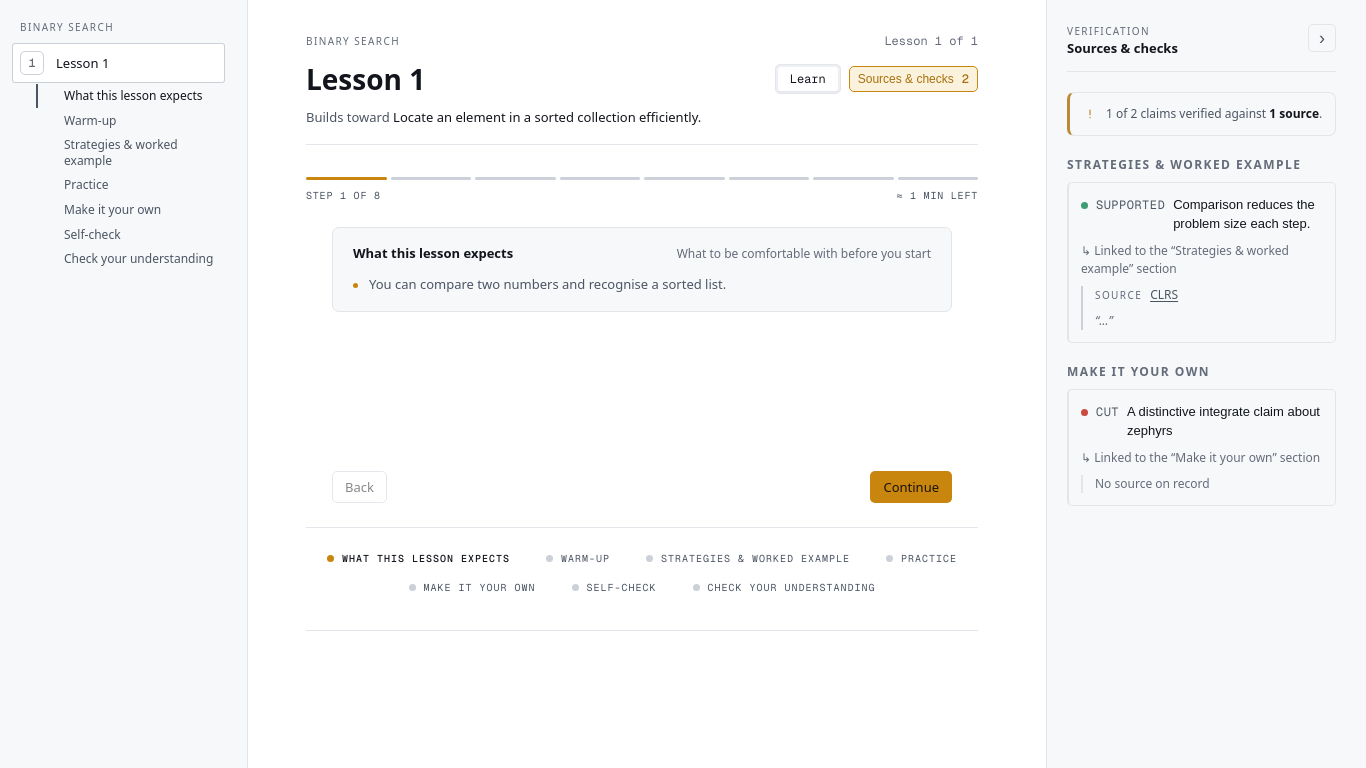
Test case: CourseReader — claim → lesson backlink › locates a claim in the integrate phase to its “Make it your own” step
Click the button "CUT A distinctive integrate claim about zephyrs": (1202, 421) [1081,402,1323,440]
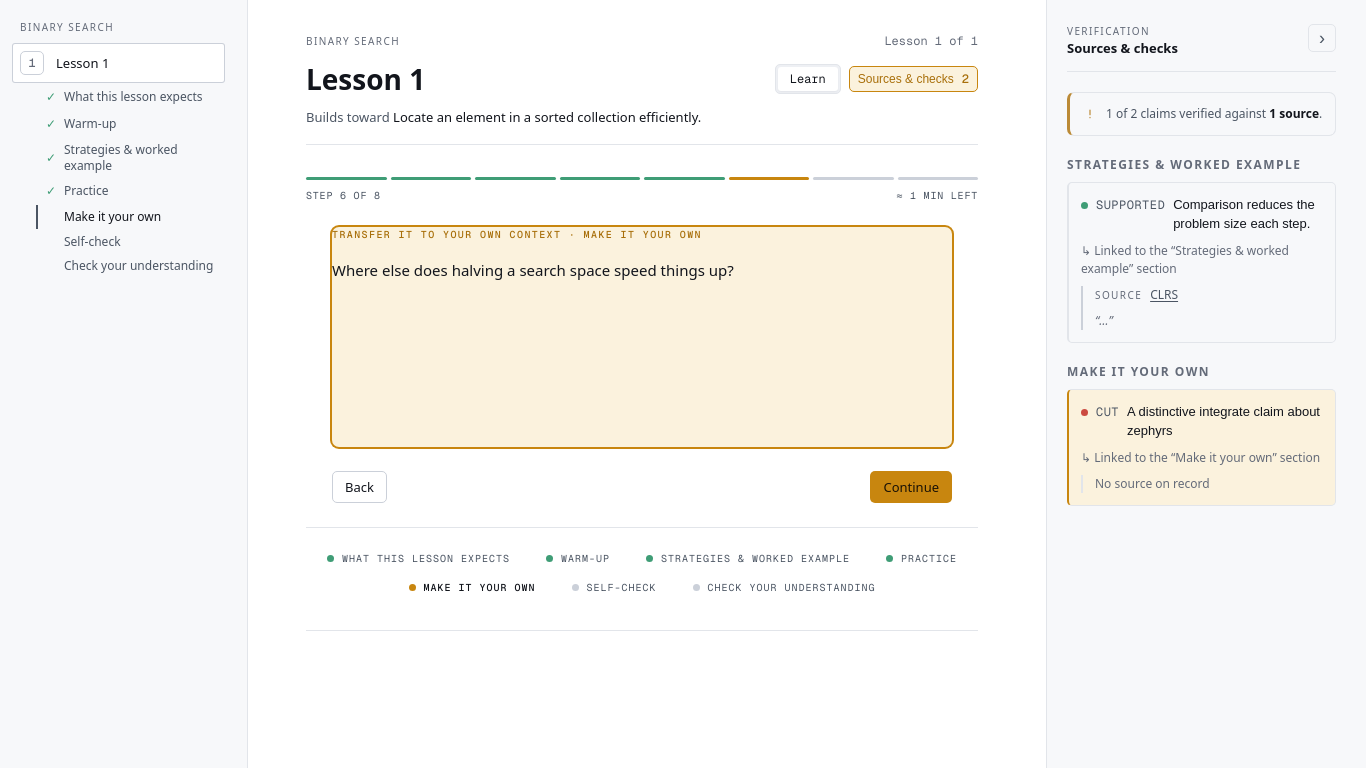
Expected: the text "Transfer it to your own context · Make it your own" is shown, [332,228,702,240]
